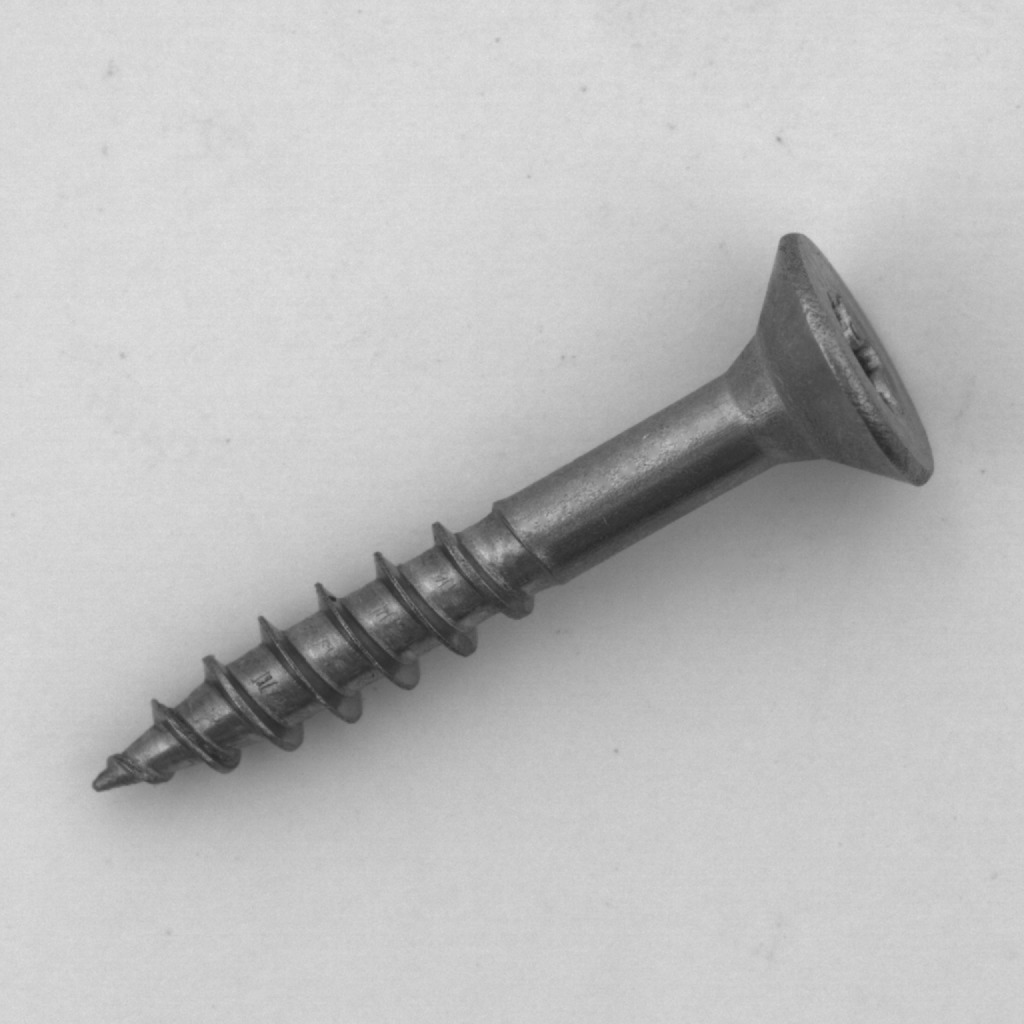good: (62, 194, 956, 817)
